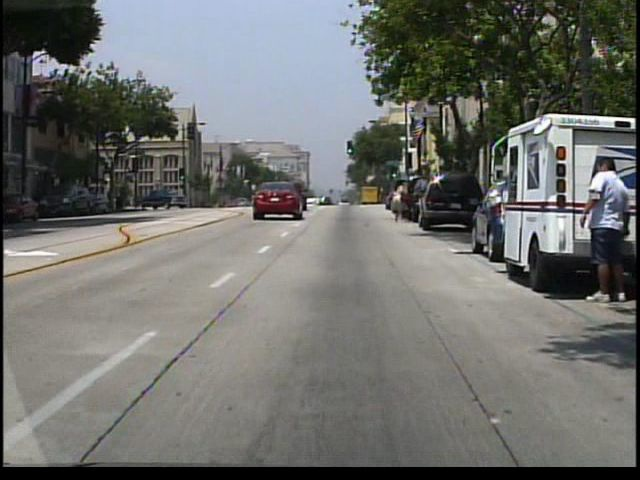person: (578, 159, 625, 304), (388, 177, 410, 224)
